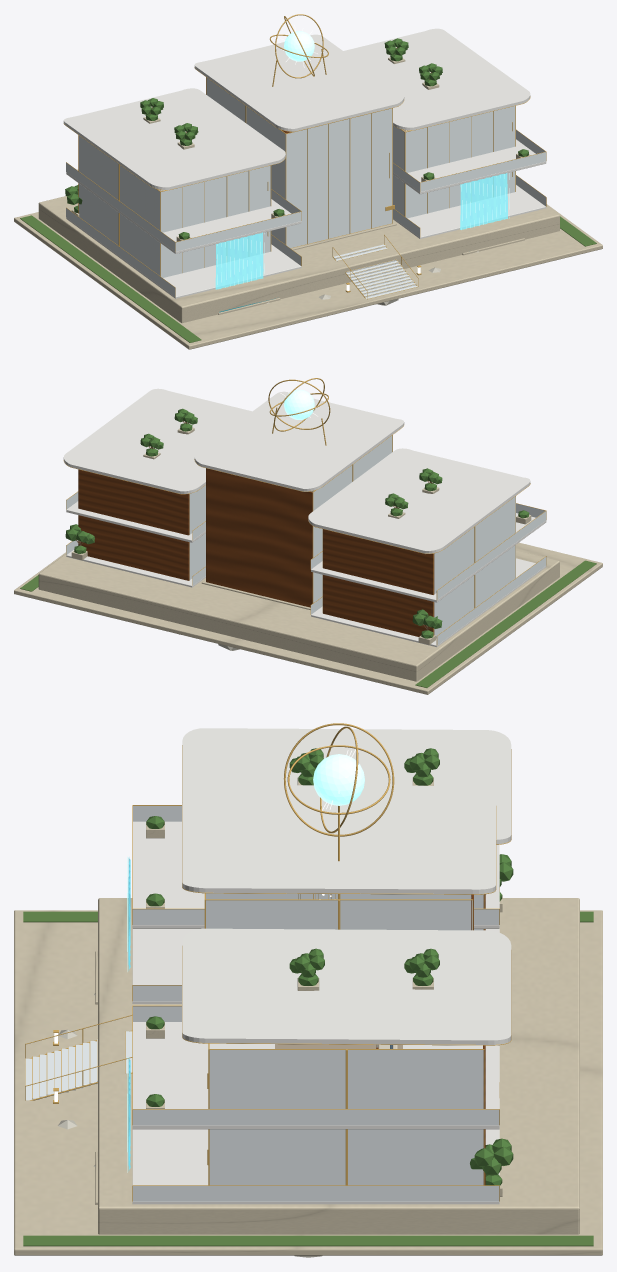
The model's file is House6.fbx.
3 renders of one model, top to bottom at view 1: azimuth 30°, elevation 25°; view 2: azimuth 150°, elevation 25°; view 3: azimuth 270°, elevation 25°, orthographic. The views are drawn at different scales.
Parts seen in each view (by area): view 1: House6, Base; view 2: House6, Base; view 3: House6, Base.
Part boxes in pixels (x1,y1,x2,y2): House6: (20, 14, 596, 342); Base: (14, 204, 602, 349); House6: (20, 378, 596, 687); Base: (14, 542, 602, 694); House6: (23, 723, 593, 1257); Base: (14, 910, 602, 1255).
Bounding box in the file's own units: 10500 × 5476 × 7700.
19 materials, 3 textured.
